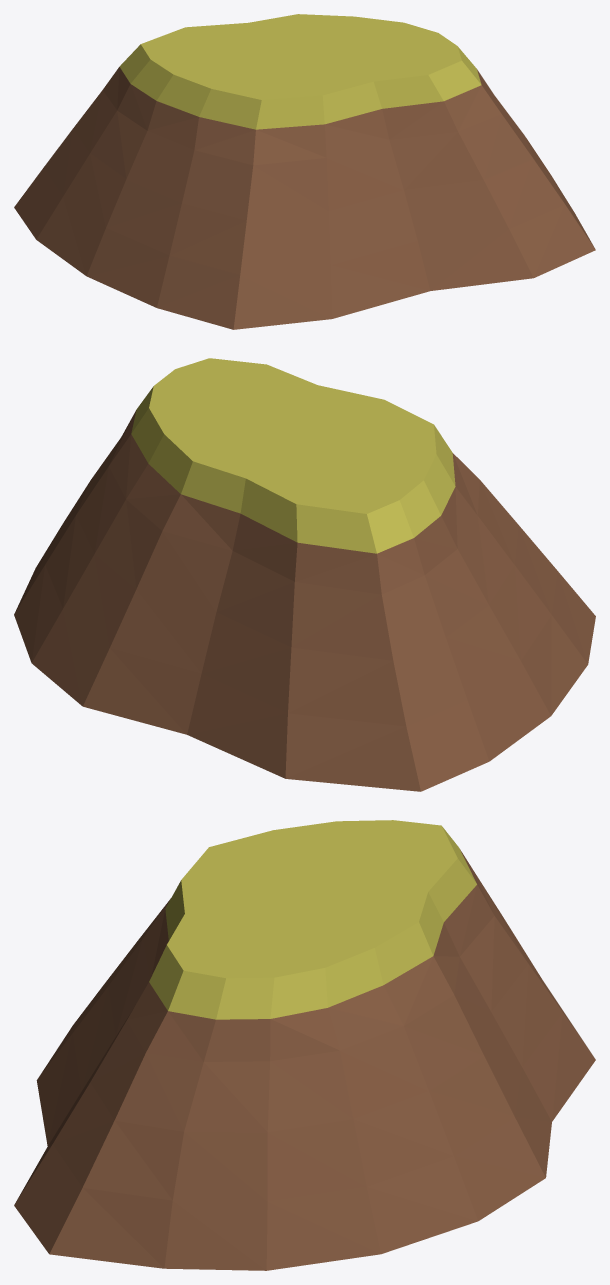
The model's file is Hill1.fbx.
The picture shows the model from 3 angles, top to bottom: view 1: azimuth 30°, elevation 25°; view 2: azimuth 150°, elevation 25°; view 3: azimuth 270°, elevation 25°; orthographic projection. The views are drawn at different scales.
Visible parts, largest first — view 1: Cube.009; view 2: Cube.009; view 3: Cube.009.
Part boxes in pixels (x1=…): Cube.009: x1=14, y1=14, x2=595, y2=329; Cube.009: x1=14, y1=358, x2=595, y2=791; Cube.009: x1=14, y1=820, x2=595, y2=1270.
Bounding box in the file's own units: 1685 × 641 × 1472.
